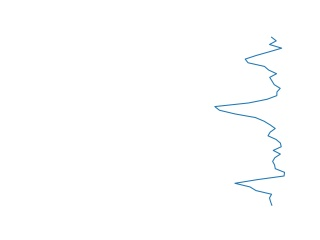underwaterNaturalLevee: (209, 37, 291, 206)
